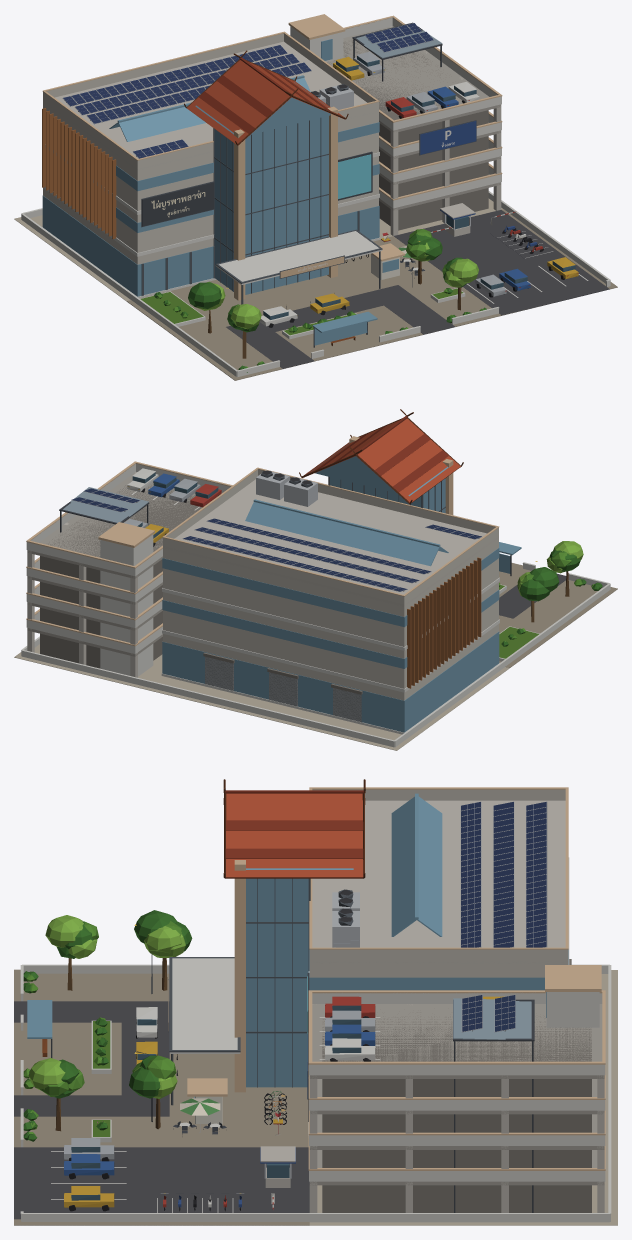
File: store.glb
The picture shows the model from 3 angles, top to bottom: view 1: azimuth 30°, elevation 25°; view 2: azimuth 150°, elevation 25°; view 3: azimuth 270°, elevation 25°; orthographic projection. The views are drawn at different scales.
Parts seen in each view (by area): view 1: body, windows; view 2: body, windows; view 3: body, windows.
Boxes of the visible parts, left/top/right/bottom form: body: left=14, top=14, right=617, bottom=380; windows: left=151, top=56, right=578, bottom=319; body: left=14, top=409, right=617, bottom=750; windows: left=127, top=472, right=537, bottom=561; body: left=14, top=779, right=617, bottom=1225; windows: left=71, top=924, right=361, bottom=1200.
Bounding box in the file's own units: 47.9 × 24.29 × 47.9.
